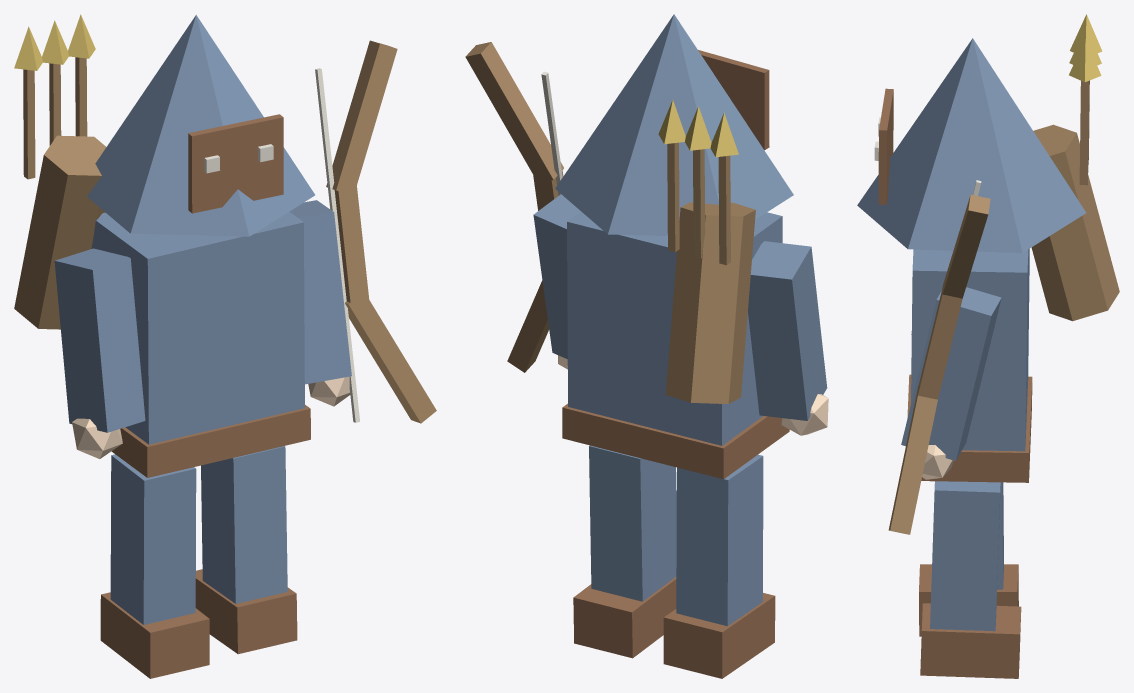
File: npcpose_archer_idle_07.glb
The picture shows the model from 3 angles, left to right: view 1: azimuth 30°, elevation 25°; view 2: azimuth 150°, elevation 25°; view 3: azimuth 270°, elevation 25°; orthographic projection. The views are drawn at different scales.
Parts seen in each view (by area): view 1: npcpose; view 2: npcpose; view 3: npcpose.
Part boxes in pixels (x1,y1,x2,y2): npcpose: [14, 14, 436, 678]; npcpose: [465, 14, 828, 678]; npcpose: [857, 14, 1119, 678].
Bounding box in the file's own units: 0.911 × 1.63 × 0.6399.
